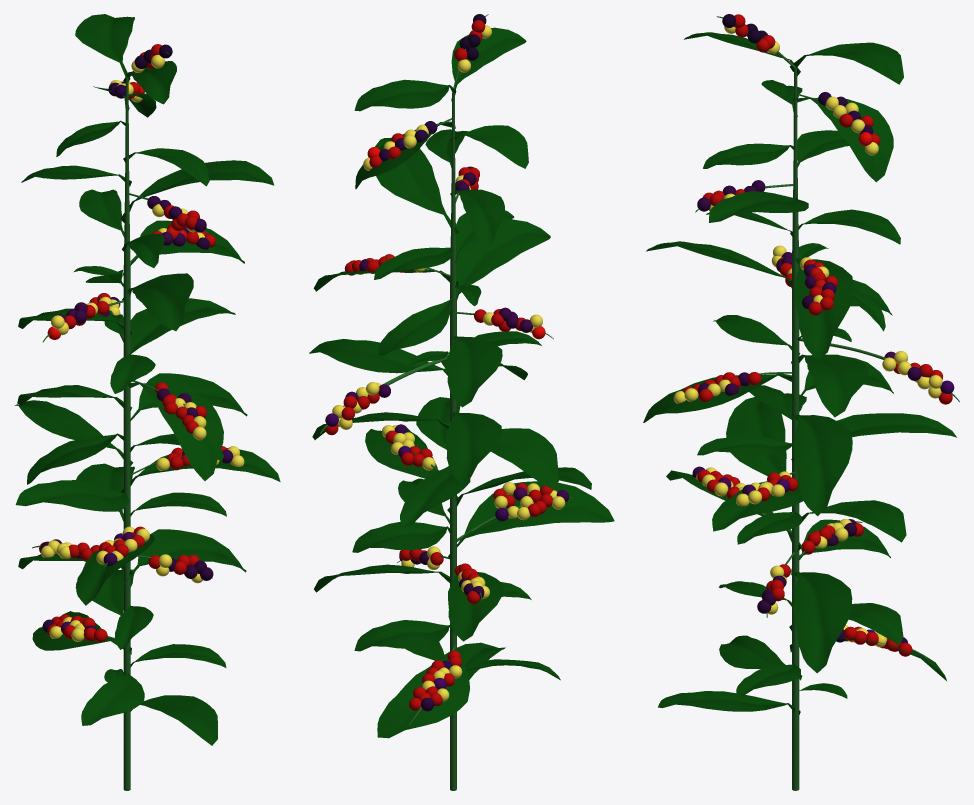
File: BIGNAYZ.glb
3 renders of one model, left to right at view 1: azimuth 30°, elevation 25°; view 2: azimuth 150°, elevation 25°; view 3: azimuth 270°, elevation 25°, orthographic. The views are drawn at different scales.
Visible parts, largest first — view 1: STEM, leaf.003, leaf.006, leaf.024, leaf.009, leaf.028, leaf.033, leaf.016, leaf.015, leaf, leaf.018, leaf.005 (+20 smaller); view 2: leaf.002, leaf.024, leaf.004, leaf.008, leaf.021, STEM, leaf.019, leaf.033, leaf.018, leaf.028, leaf.013, leaf.014 (+18 smaller); view 3: leaf.005, leaf.009, STEM, leaf.023, leaf.006, leaf.018, leaf.029, leaf, leaf.028, leaf.033, leaf.016, leaf.014 (+17 smaller).
Boxes of the visible parts, x1,y1,x2,y2 form: STEM: (123,78,130,790); leaf.003: (128,382,223,480); leaf.006: (15,480,128,511); leaf.024: (122,273,193,330); leaf.009: (124,529,246,584); leaf.028: (75,14,134,82); leaf.033: (120,160,274,222); leaf.016: (130,695,217,745); leaf.015: (81,673,144,725); leaf: (14,400,133,465); leaf.018: (130,298,235,353); leaf.005: (127,373,247,424); leaf.002: (448,481,614,558); leaf.024: (451,219,550,315); leaf.004: (377,650,469,738); leaf.008: (447,336,502,407); leaf.021: (446,412,501,483); STEM: (450,92,456,790); leaf.019: (491,428,558,489); leaf.033: (375,137,458,235); leaf.018: (309,339,447,375); leaf.028: (354,79,456,111); leaf.013: (354,620,452,651); leaf.014: (352,521,451,552); leaf.005: (791,414,852,516); leaf.009: (791,571,852,673); STEM: (792,67,799,790); leaf.023: (794,258,853,360); leaf.006: (726,397,786,476); leaf.018: (791,354,867,417); leaf.029: (792,97,893,182); leaf: (791,413,956,461); leaf.028: (789,42,903,84); leaf.033: (709,191,808,222); leaf.016: (658,691,800,715); leaf.014: (800,500,906,542).
Size of the model in its own units: 1.94 by 5.54 by 2.05.
